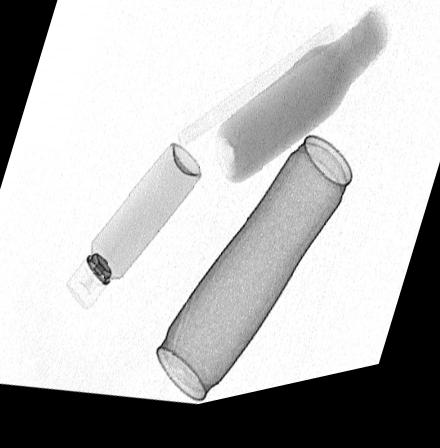Sprayer: (66, 150, 202, 313)
